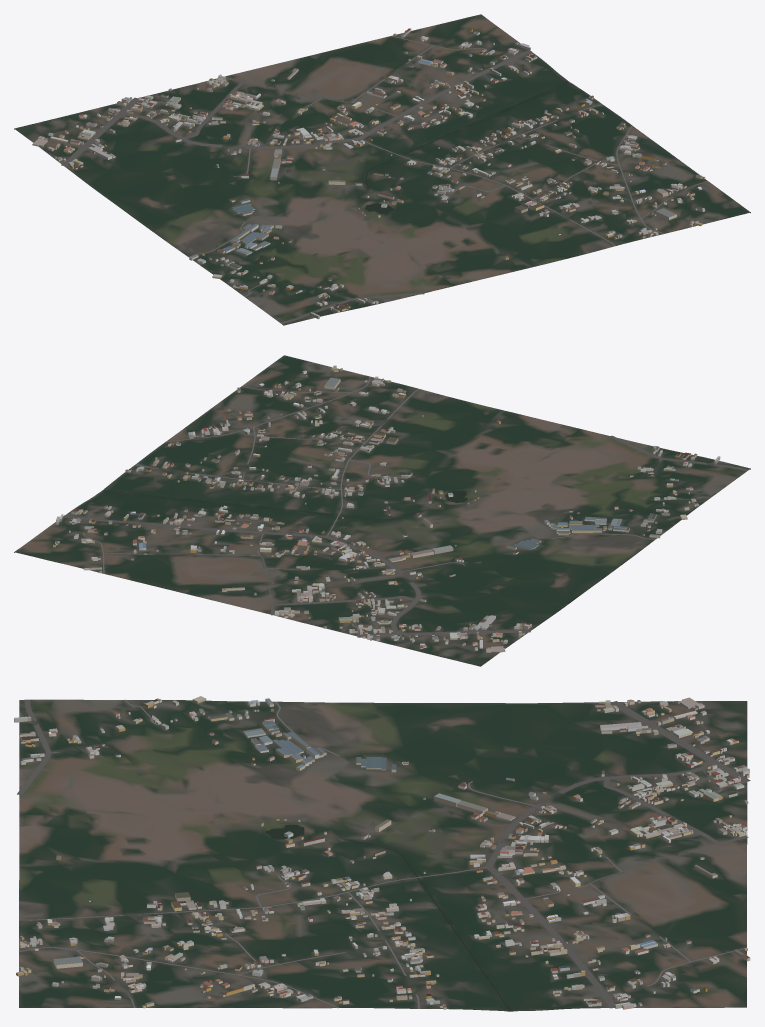
3 renders of one model, top to bottom at view 1: azimuth 30°, elevation 25°; view 2: azimuth 150°, elevation 25°; view 3: azimuth 270°, elevation 25°, orthographic. The views are drawn at different scales.
Visible parts, largest first — view 1: ground, buildings, roads, water; view 2: ground, buildings, roads, water; view 3: ground, buildings, roads, water.
Boxes of the visible parts, x1=… form: ground: x1=14, y1=14, x2=750, y2=325; buildings: x1=32, y1=28, x2=705, y2=319; roads: x1=61, y1=35, x2=707, y2=323; water: x1=364, y1=81, x2=568, y2=214; ground: x1=14, y1=355, x2=750, y2=666; buildings: x1=53, y1=365, x2=720, y2=652; roads: x1=63, y1=376, x2=748, y2=640; water: x1=102, y1=490, x2=467, y2=519; ground: x1=19, y1=699, x2=747, y2=1011; buildings: x1=14, y1=696, x2=750, y2=1009; roads: x1=17, y1=699, x2=750, y2=1008; water: x1=265, y1=825, x2=510, y2=1011.
Bounding box in the file's own units: 1418 × 21.62 × 1418.
